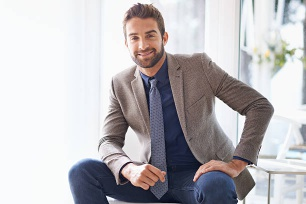male: (120, 9, 171, 70)
